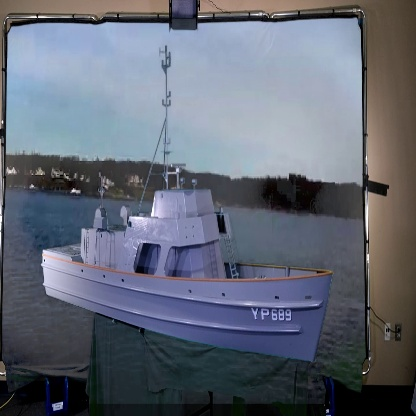YP689: (42, 40, 332, 365)
